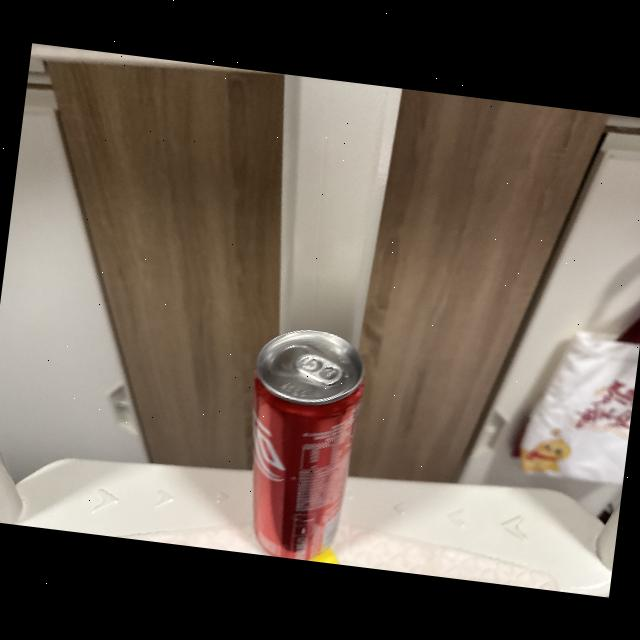Cola: (227, 318, 376, 566)
